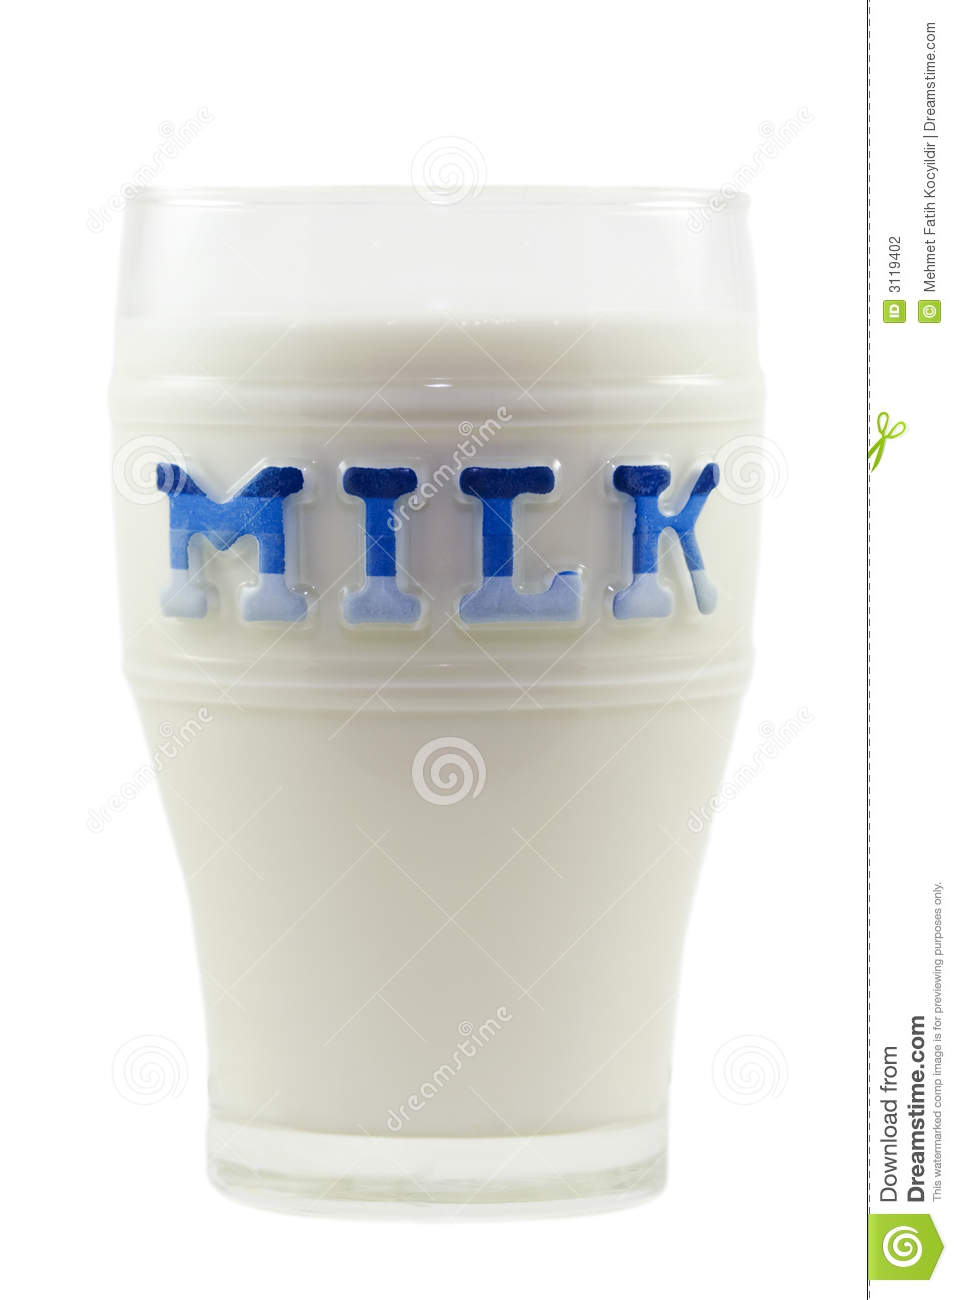glass of milk: (173, 205, 688, 1218)
